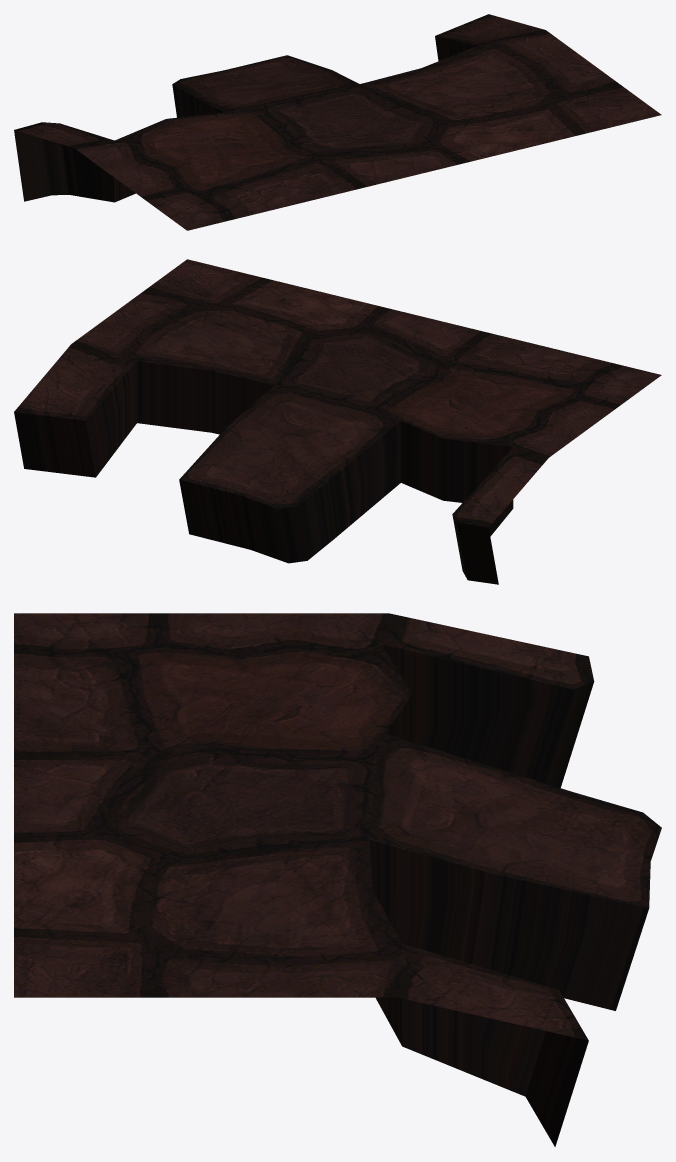
The model's file is lava_floor_brokenstraight_02.fbx.
3 renders of one model, top to bottom at view 1: azimuth 30°, elevation 25°; view 2: azimuth 150°, elevation 25°; view 3: azimuth 270°, elevation 25°, orthographic. The views are drawn at different scales.
Parts seen in each view (by area): view 1: lava_tileset/lava_floor01_shadow; view 2: lava_tileset/lava_floor01_shadow; view 3: lava_tileset/lava_floor01_shadow.
Boxes of the visible parts, bbox=[...] form: lava_tileset/lava_floor01_shadow: bbox=[14, 14, 661, 230]; lava_tileset/lava_floor01_shadow: bbox=[14, 259, 661, 584]; lava_tileset/lava_floor01_shadow: bbox=[14, 613, 661, 1146].
Bounding box in the file's own units: 4 × 0.7984 × 2.85.
